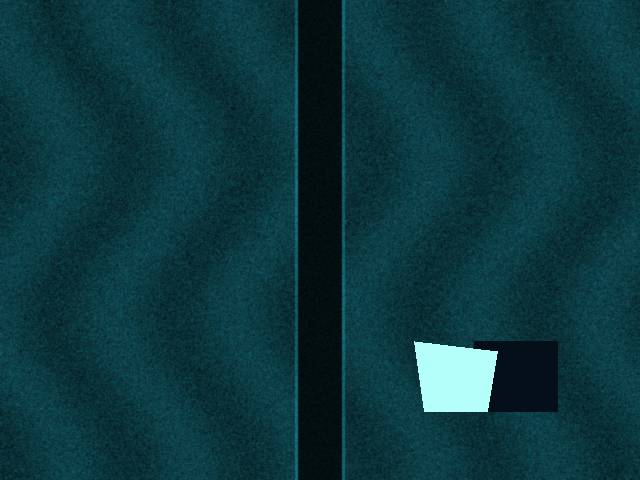Other Man-made Debris: (414, 341, 497, 411)
